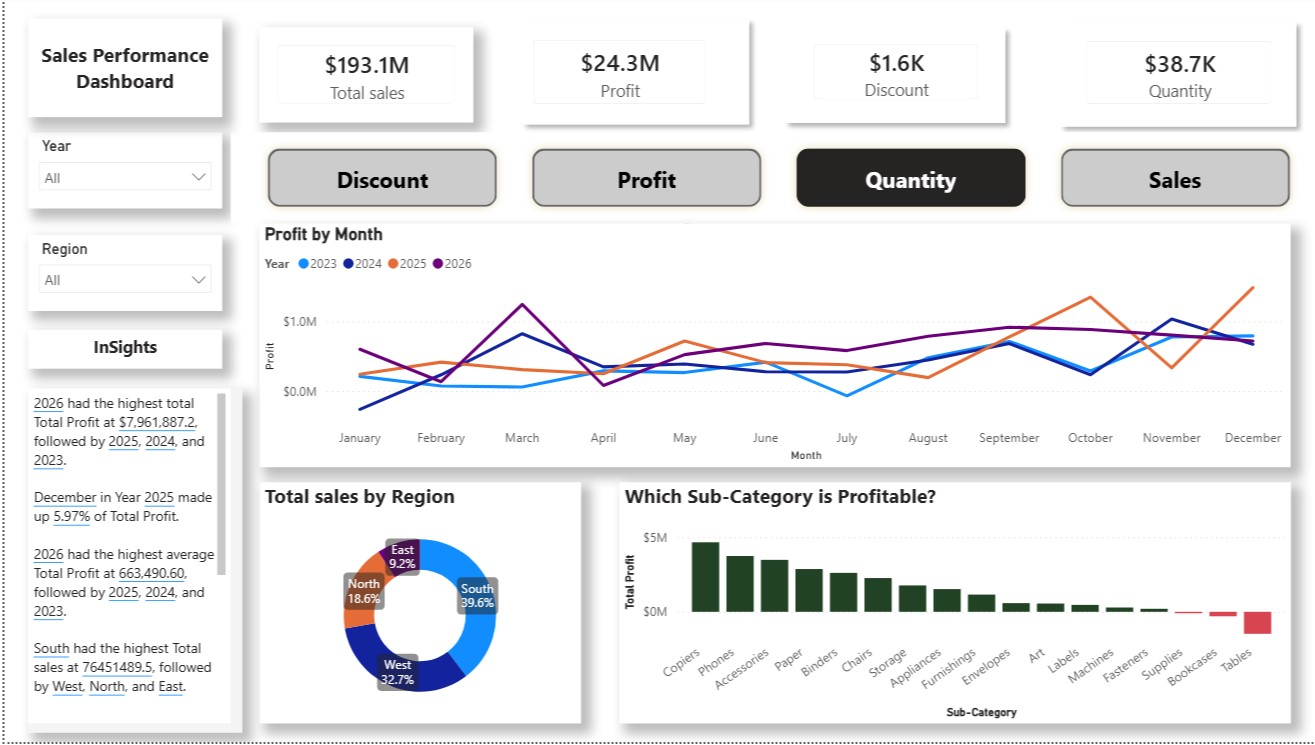

Layout of this report page (visuals, bound fields, positions):
{"tool":"powerbi","page":{"name":"Dashboard","canvas":[1280,720],"ordinal":0},"visuals":[{"type":"shape","box":[422.3,190.6,243.7,119.4],"z":0},{"type":"cardVisual","fields":{"Data":["_Measures.Total sales"]},"box":[246.1,30.2,206.3,91.7],"z":1000},{"type":"shape","box":[491,13.3,236.5,119.4],"z":2000},{"type":"cardVisual","fields":{"Data":["_Measures.Total Profit"]},"box":[493.4,25.3,200.3,96.5],"z":3000},{"type":"shape","box":[744.4,21.7,230.4,109.8],"z":4000},{"type":"shape","box":[1009.8,15.7,246.1,119.4],"z":5000},{"type":"cardVisual","fields":{"Data":["_Measures.Total Discount"]},"box":[763.7,29,193,88.1],"z":6000},{"type":"cardVisual","fields":{"Data":["_Measures.Total Quantity"]},"box":[1026.7,26.5,214.7,95.3],"z":7000},{"type":"slicer","fields":{"Values":["Orders.Region"]},"box":[22.9,230.4,187,73.6],"z":8000},{"type":"slicer","fields":{"Values":["Date_Table.Year"]},"box":[22.9,131.5,187,73.6],"z":9000},{"type":"advancedSlicerVisual","fields":{"Values":["select_Parameters.Parameters"]},"box":[218.4,131.5,1061.7,88.1],"z":10000},{"type":"lineChart","title":"Profit by Month","fields":{"Category":["Date_Table.Month"],"Series":["Date_Table.Year"],"Y":["_Measures.Total Profit"]},"box":[246.1,219.6,995.3,235.3],"z":11000},{"type":"donutChart","fields":{"Category":["Orders.Region"],"Y":["_Measures.Total sales"]},"box":[246.1,469.3,310.1,232.8],"z":12000},{"type":"clusteredColumnChart","title":"Which Sub-Category is Profitable?","fields":{"Category":["Orders.Sub-Category"],"Y":["_Measures.Total Profit"]},"box":[593.6,469.3,647.9,232.8],"z":13000},{"type":"textbox","box":[22.9,21.7,187,95.3],"z":14000},{"type":"textbox","box":[22.9,378.8,206.3,331.8],"z":15000},{"type":"textbox","box":[22.9,322.1,187,37.4],"z":16000},{"type":"textbox","box":[22.9,378.8,195.4,323.3],"z":17000}]}

Visuals, with their boxes in screenshot pixels (x1, y1, x2, y2), scaled from the page's 1280x720 canvas onto the 1315x745 screenshot:
shape: box(434, 197, 684, 321)
cardVisual - _Measures.Total sales: box(253, 31, 465, 126)
shape: box(504, 14, 747, 137)
cardVisual - _Measures.Total Profit: box(507, 26, 713, 126)
shape: box(765, 22, 1001, 136)
shape: box(1037, 16, 1290, 140)
cardVisual - _Measures.Total Discount: box(785, 30, 983, 121)
cardVisual - _Measures.Total Quantity: box(1055, 27, 1275, 126)
slicer - Orders.Region: box(24, 238, 216, 315)
slicer - Date_Table.Year: box(24, 136, 216, 212)
advancedSlicerVisual - select_Parameters.Parameters: box(224, 136, 1314, 227)
"Profit by Month" lineChart: box(253, 227, 1275, 471)
donutChart - Orders.Region x _Measures.Total sales: box(253, 486, 571, 726)
"Which Sub-Category is Profitable?" clusteredColumnChart: box(610, 486, 1275, 726)
textbox: box(24, 22, 216, 121)
textbox: box(24, 392, 235, 735)
textbox: box(24, 333, 216, 372)
textbox: box(24, 392, 224, 726)
